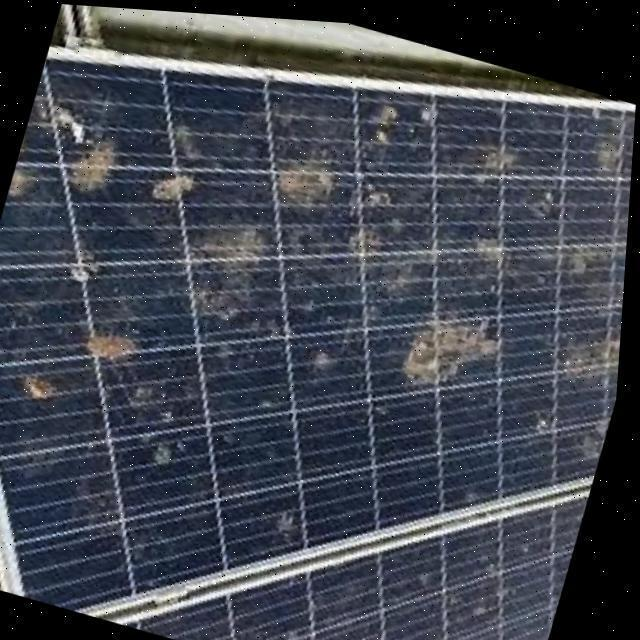Anomaly Solar Panel: (0, 51, 637, 612), (129, 481, 596, 640)
Surface Contaminant: (132, 488, 594, 640), (314, 170, 526, 356), (169, 212, 288, 327), (141, 106, 226, 216), (116, 378, 210, 474), (359, 82, 452, 166), (55, 116, 137, 209), (405, 316, 503, 384), (270, 142, 351, 217), (455, 124, 534, 184), (579, 112, 636, 184), (3, 355, 72, 411), (563, 319, 625, 380), (77, 325, 144, 368), (8, 122, 37, 201)
